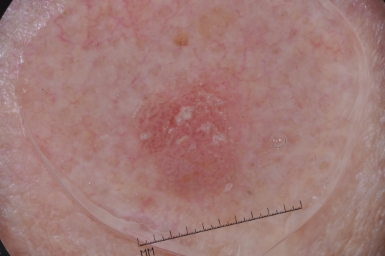seborrheic keratosis: (107, 65, 264, 205)
